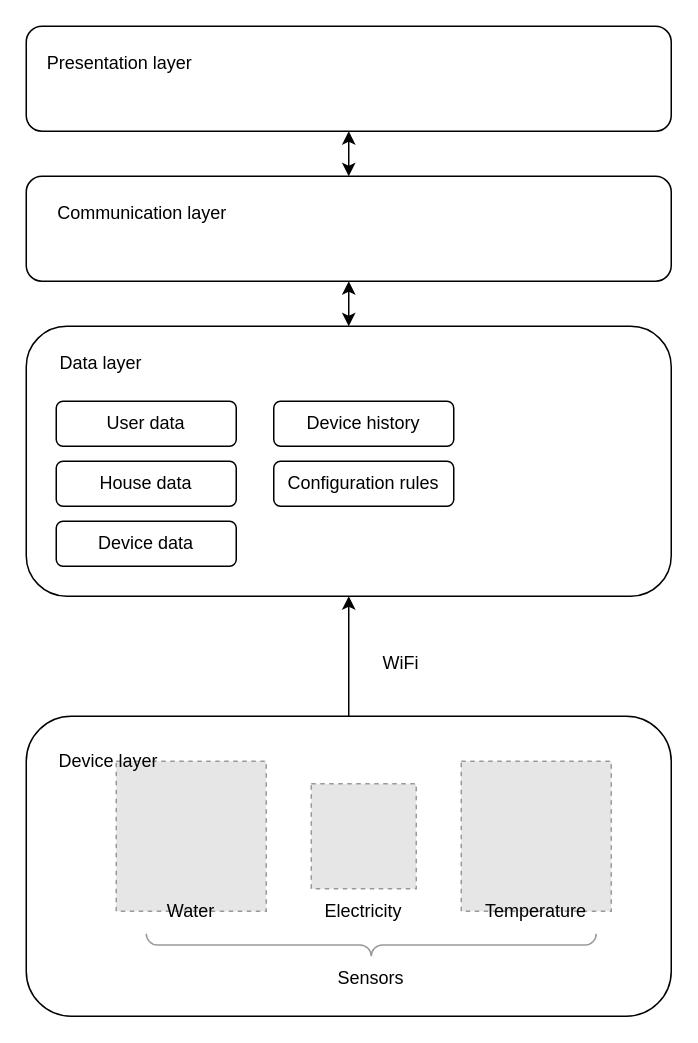
Image size: 698x1043. Some labels were removed from this diagram. Grey dashed boxes stand in for pictures. The box of each missing label's shape, as (x1, y1, x2, y2) in pixels:
REST API: (25, 175, 671, 281)
Web application: (25, 25, 671, 131)
